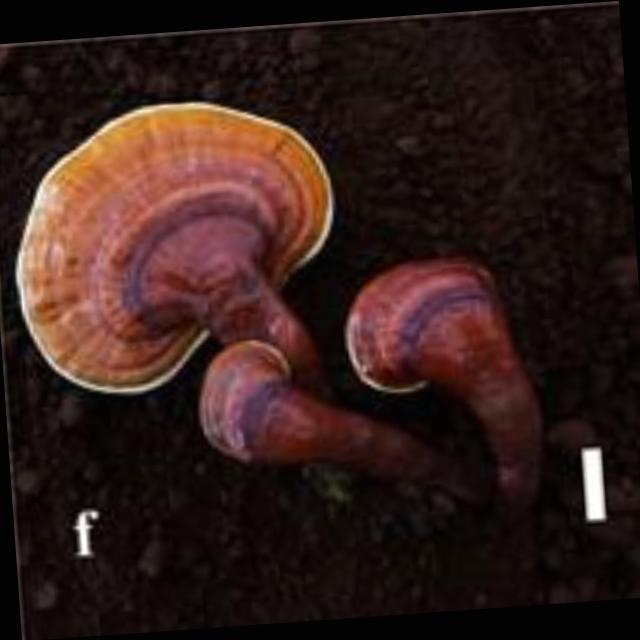ganoderma: (3, 90, 351, 402), (340, 251, 515, 399), (192, 333, 302, 470)
